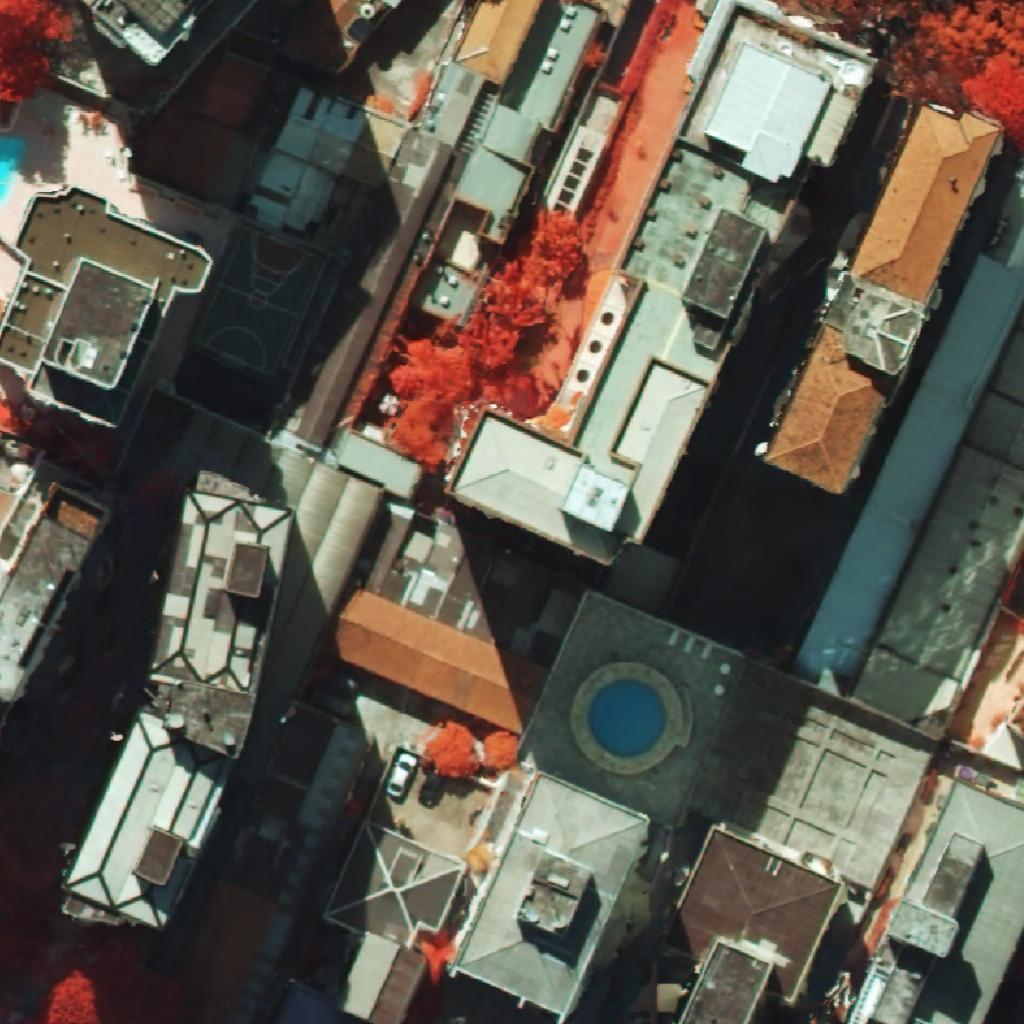pool: (588, 680, 666, 757), (0, 138, 25, 204)
